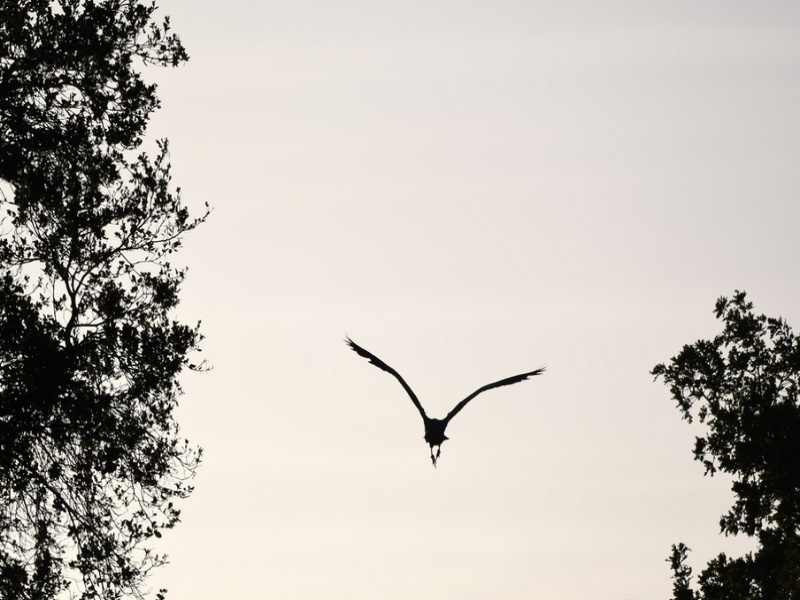heron: (346, 337, 550, 476)
